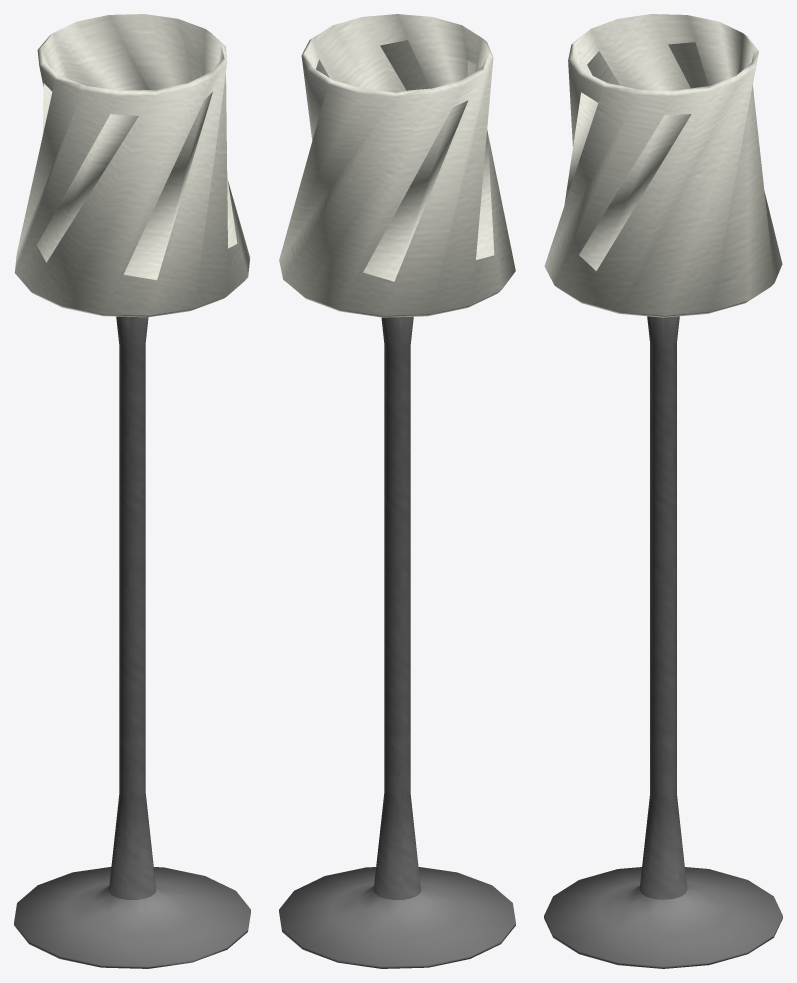
File: lamp_1.obj
3 views of the same model, side by side, from view 1: azimuth 30°, elevation 25°; view 2: azimuth 150°, elevation 25°; view 3: azimuth 270°, elevation 25° (orthographic).
Parts seen in each view (by area): view 1: lamp_1; view 2: lamp_1; view 3: lamp_1.
Part boxes in pixels (x1=…): lamp_1: x1=14, y1=14, x2=250, y2=968; lamp_1: x1=279, y1=14, x2=515, y2=968; lamp_1: x1=544, y1=14, x2=782, y2=968.
Size of the model in its own units: 4 by 16 by 4.
1 material, 1 textured.
